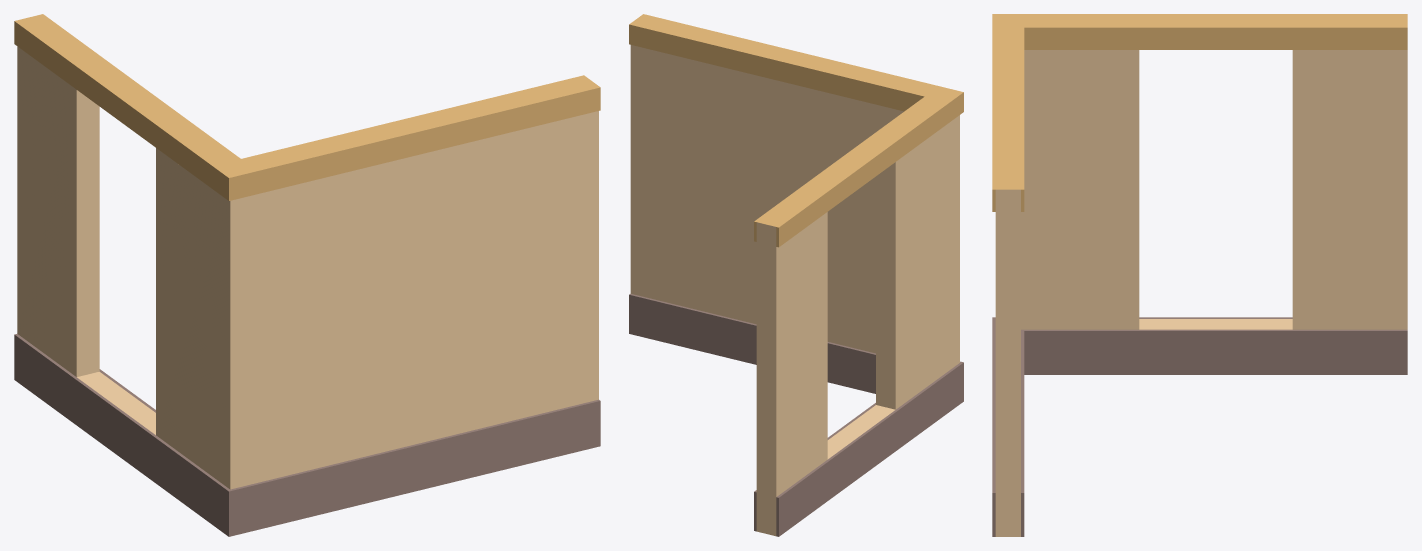
Rendered from Wall01-06.fbx.
The picture shows the model from 3 angles, left to right: view 1: azimuth 30°, elevation 25°; view 2: azimuth 150°, elevation 25°; view 3: azimuth 270°, elevation 25°; orthographic projection. The views are drawn at different scales.
Visible parts, largest first — view 1: Wall01-06; view 2: Wall01-06; view 3: Wall01-06.
Boxes of the visible parts, left/top/right/bottom form: Wall01-06: left=14, top=14, right=600, bottom=536; Wall01-06: left=629, top=14, right=963, bottom=536; Wall01-06: left=992, top=14, right=1407, bottom=536.
Bounding box in the file's own units: 3.25 × 3.25 × 3.
